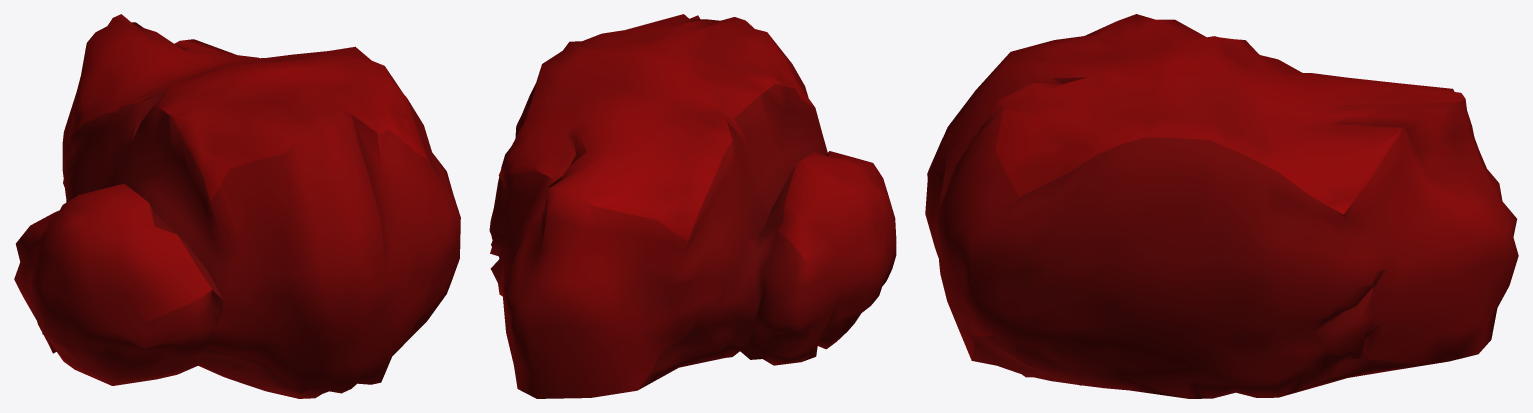
Rendered from geology-rocks-rockhuge_v7.fbx.
3 views of the same model, side by side, from view 1: azimuth 30°, elevation 25°; view 2: azimuth 150°, elevation 25°; view 3: azimuth 270°, elevation 25° (orthographic). The views are drawn at different scales.
Parts seen in each view (by area): view 1: RockHuge_v7; view 2: RockHuge_v7; view 3: RockHuge_v7.
Boxes of the visible parts, left/top/right/bottom form: RockHuge_v7: left=14, top=14, right=460, bottom=398; RockHuge_v7: left=489, top=14, right=896, bottom=398; RockHuge_v7: left=925, top=14, right=1518, bottom=398.
Size of the model in its own units: 25.98 by 19.36 by 32.77.
